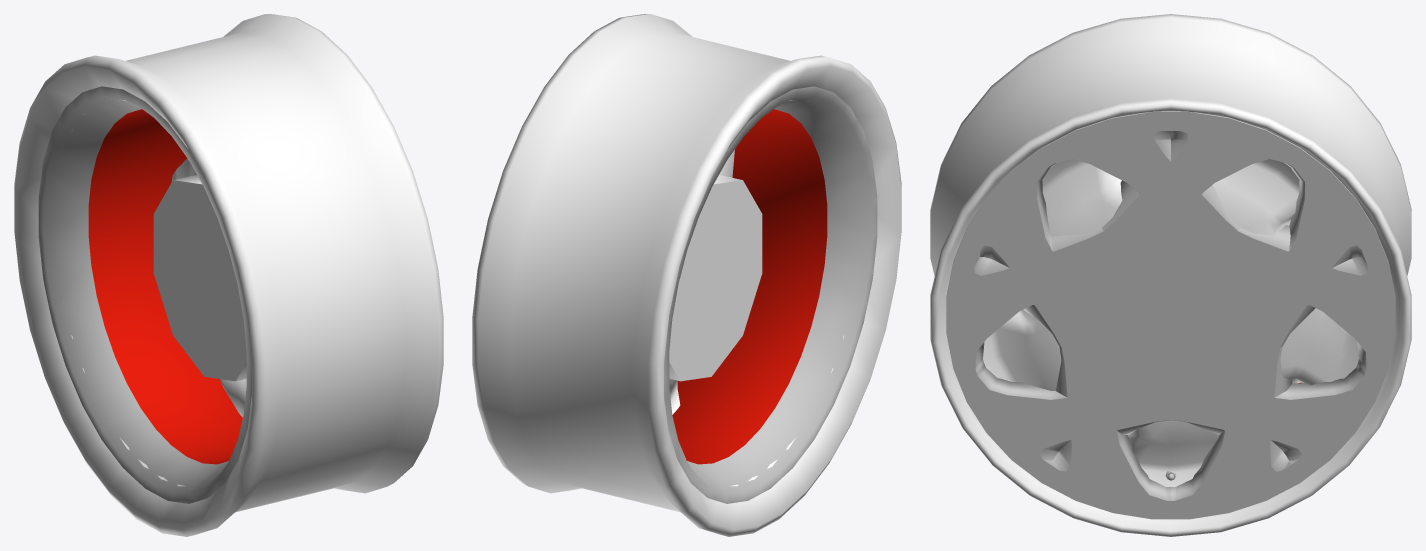
File: mione_wheels.dae
3 views of the same model, side by side, from view 1: azimuth 30°, elevation 25°; view 2: azimuth 150°, elevation 25°; view 3: azimuth 270°, elevation 25° (orthographic).
Parts seen in each view (by area): view 1: gavril_allsport_15x7, ibishu_wheel_07a_14x7_flipped_colorable, ibishu_wheel_07b_14x7_colorable; view 2: gavril_allsport_15x7, ibishu_wheel_07b_14x7_colorable, ibishu_wheel_07a_14x7_flipped_colorable; view 3: gavril_allsport_15x7, ibishu_wheel_07a_14x7_flipped_colorable, ibishu_wheel_07b_14x7_colorable.
Part boxes in pixels (box(x1,y1,x2,y2)): gavril_allsport_15x7: box(14, 14, 443, 536); ibishu_wheel_07a_14x7_flipped_colorable: box(44, 93, 251, 503); ibishu_wheel_07b_14x7_colorable: box(38, 86, 240, 500); gavril_allsport_15x7: box(472, 14, 901, 536); ibishu_wheel_07b_14x7_colorable: box(664, 96, 871, 503); ibishu_wheel_07a_14x7_flipped_colorable: box(675, 86, 877, 493); gavril_allsport_15x7: box(930, 14, 1411, 536); ibishu_wheel_07a_14x7_flipped_colorable: box(946, 111, 1395, 519); ibishu_wheel_07b_14x7_colorable: box(946, 111, 1395, 519).
Bounding box in the file's own units: 0.1841 × 0.4142 × 0.4142.
